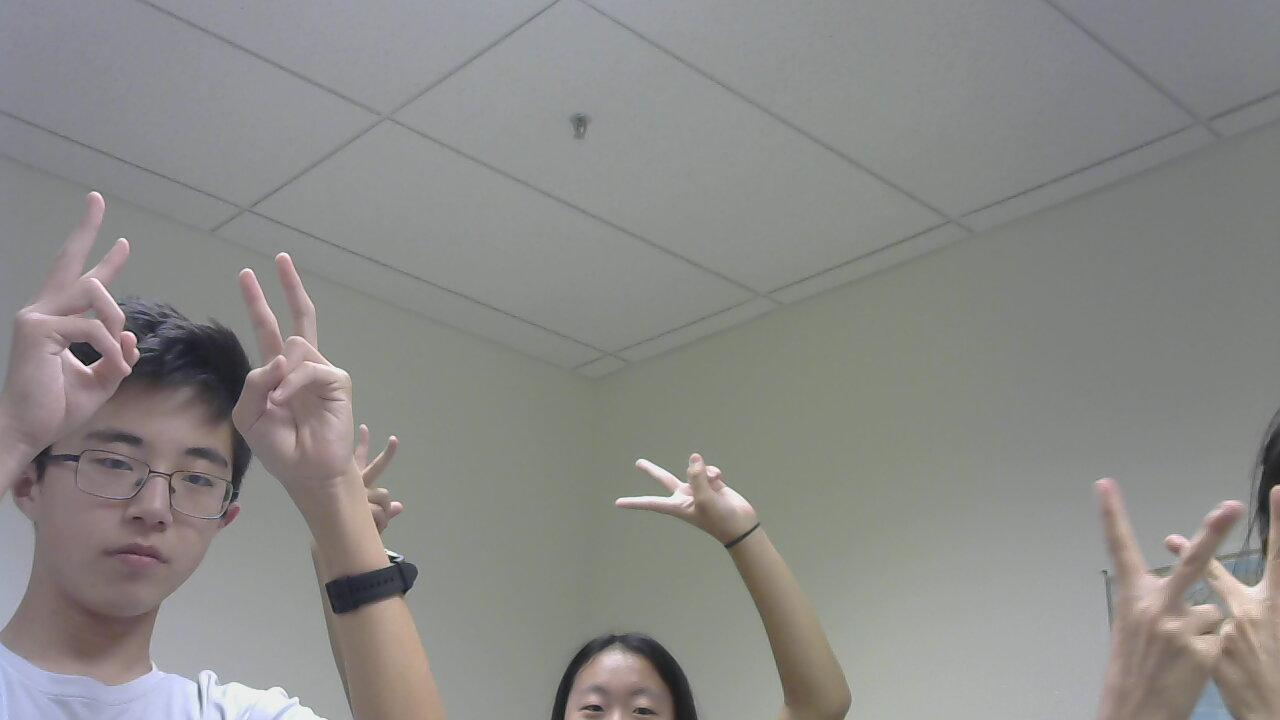peace: (1076, 447, 1235, 720), (16, 192, 156, 438), (226, 247, 334, 483), (596, 434, 780, 549)
